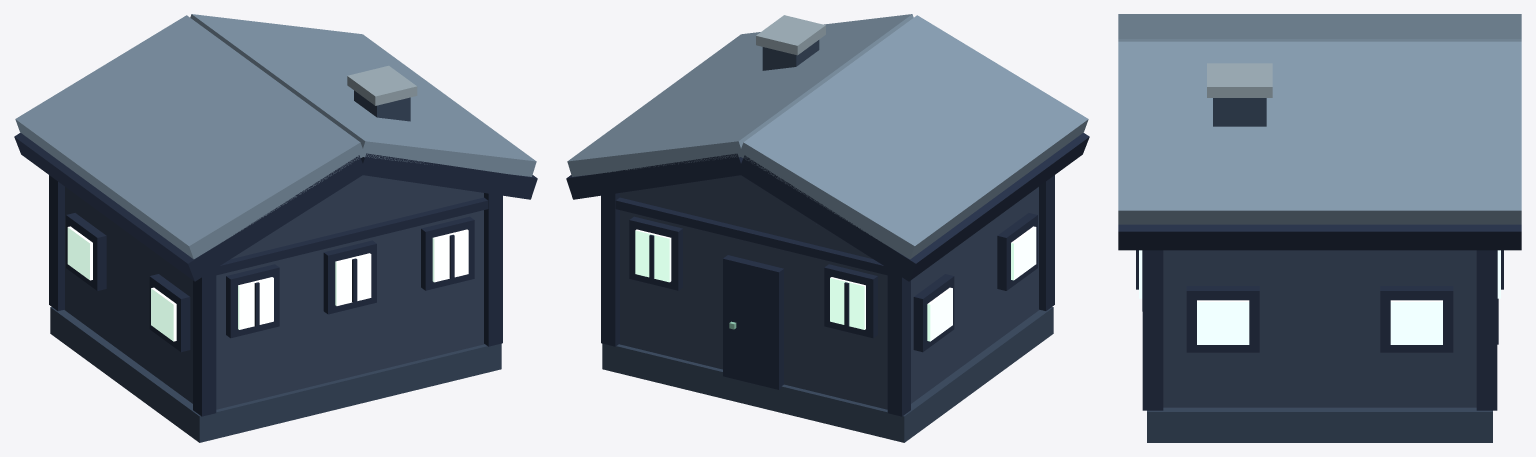
File: observation-pod.glb
3 views of the same model, side by side, from view 1: azimuth 30°, elevation 25°; view 2: azimuth 150°, elevation 25°; view 3: azimuth 270°, elevation 25° (orthographic). The views are drawn at different scales.
Parts seen in each view (by area): view 1: observation-pod; view 2: observation-pod; view 3: observation-pod.
Part boxes in pixels (x1,y1,x2,y2): observation-pod: [14, 14, 537, 442]; observation-pod: [566, 14, 1089, 442]; observation-pod: [1118, 14, 1521, 442].
Size of the model in its own units: 3.86 by 2.93 by 3.32.
